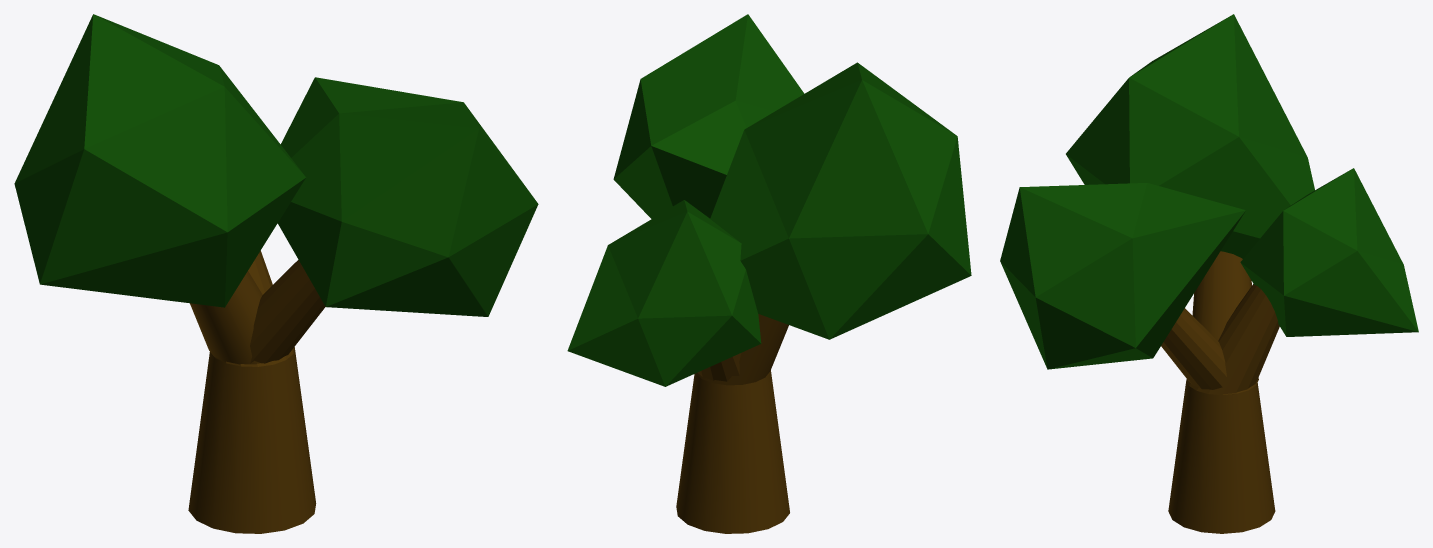
Rendered from Tree_1.fbx.
3 renders of one model, left to right at view 1: azimuth 30°, elevation 25°; view 2: azimuth 150°, elevation 25°; view 3: azimuth 270°, elevation 25°, orthographic. The views are drawn at different scales.
Visible parts, largest first — view 1: pasted__pCylinder1; view 2: pasted__pCylinder1; view 3: pasted__pCylinder1.
Boxes of the visible parts, x1,y1,x2,y2 form: pasted__pCylinder1: [14, 14, 538, 533]; pasted__pCylinder1: [567, 14, 971, 533]; pasted__pCylinder1: [1000, 14, 1418, 533].
Bounding box in the file's own units: 11.5 × 13.53 × 11.79.
